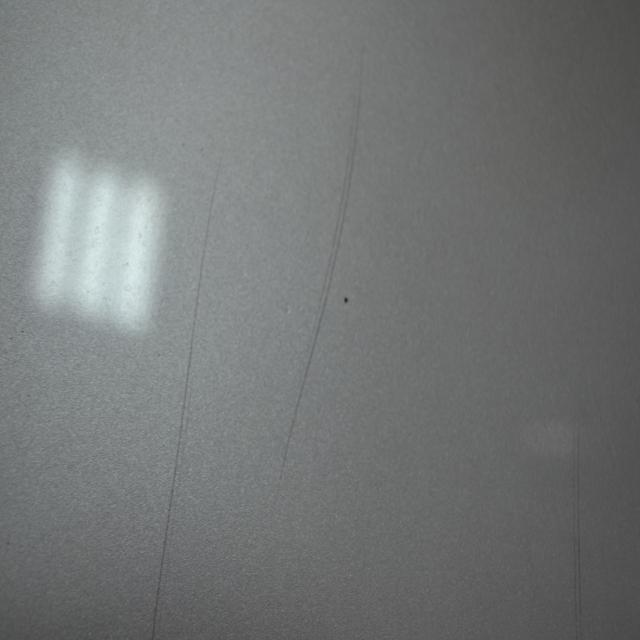dirt: (344, 295, 349, 305)
scratch: (273, 49, 367, 500), (149, 155, 224, 640), (571, 425, 588, 640)
